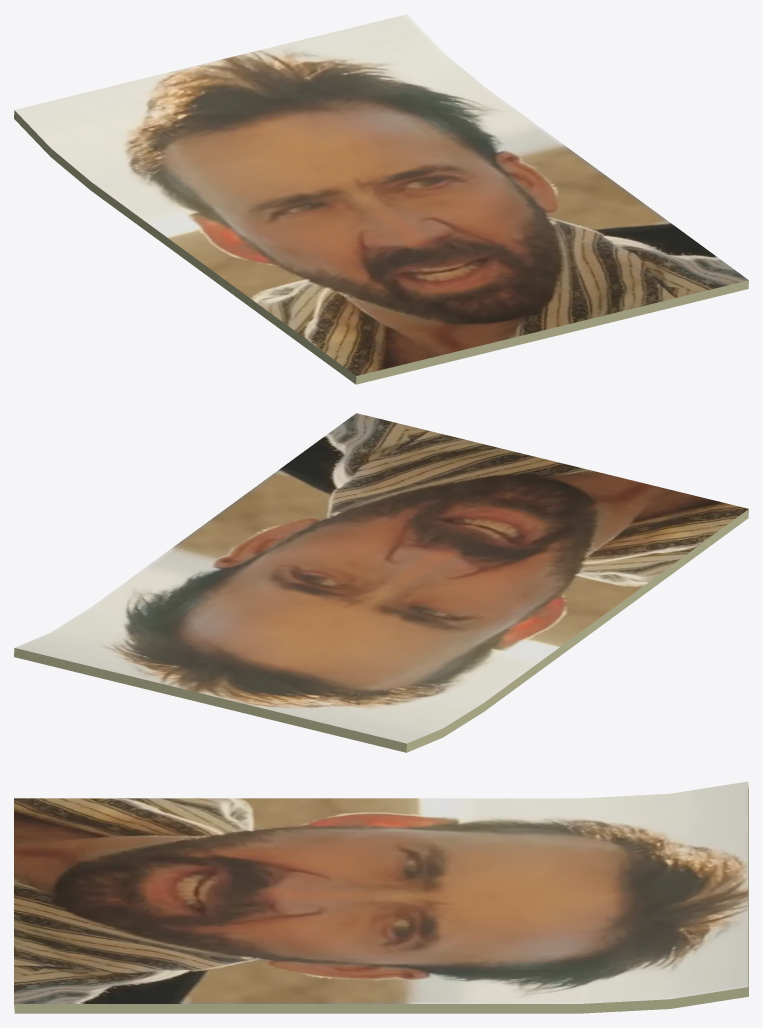
File: Note.fbx
3 views of the same model, one above another, from view 1: azimuth 30°, elevation 25°; view 2: azimuth 150°, elevation 25°; view 3: azimuth 270°, elevation 25° (orthographic). The views are drawn at different scales.
Parts seen in each view (by area): view 1: Plane.007; view 2: Plane.007; view 3: Plane.007.
Boxes of the visible parts, x1,y1,x2,y2 form: Plane.007: (14,14,748,384); Plane.007: (14,413,748,752); Plane.007: (14,781,748,1013).
Size of the model in its own units: 0.2492 by 0.0151 by 0.3765.
3 materials, 1 textured.
